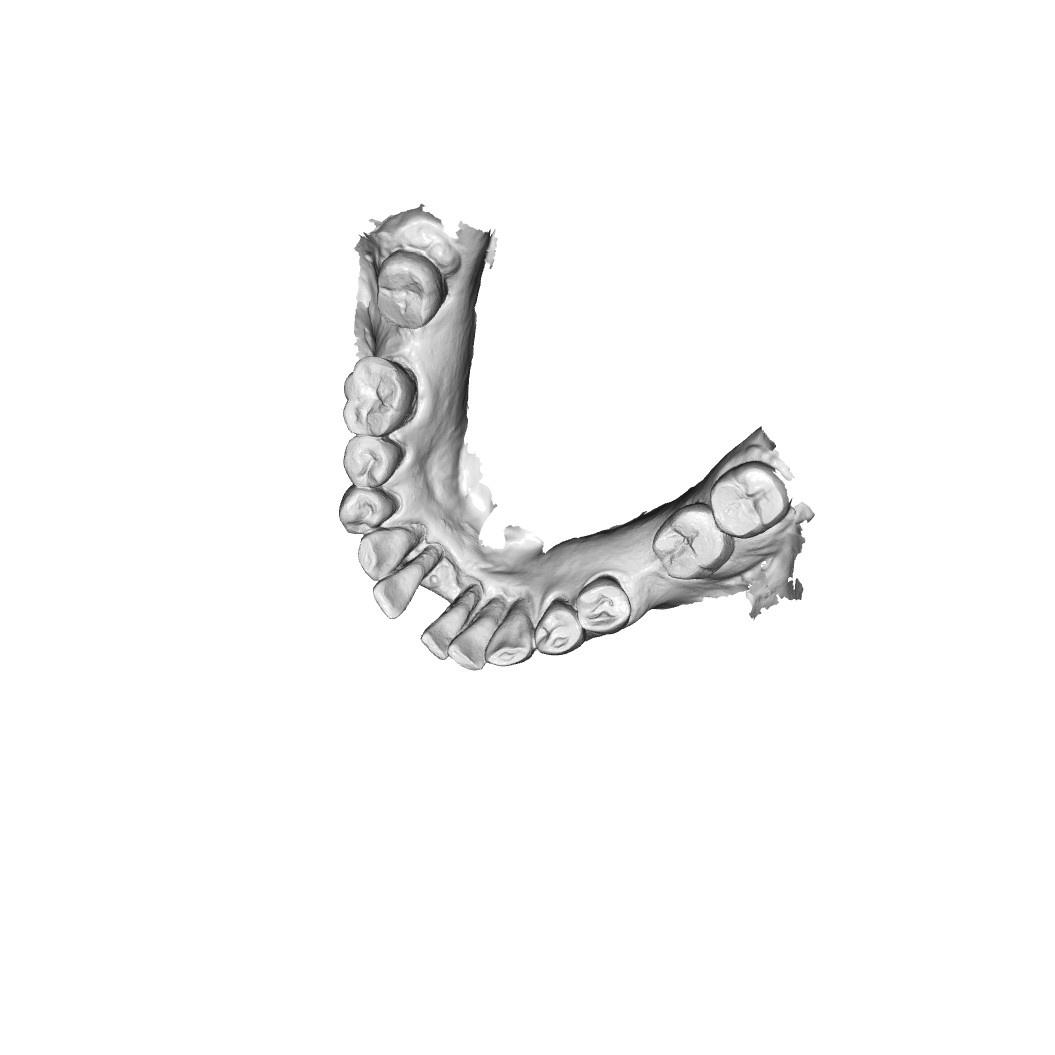canine: (489, 600, 534, 666), (356, 524, 412, 576)
incisor: (374, 560, 432, 618), (420, 602, 466, 660), (446, 618, 491, 675)
molar: (647, 500, 731, 579), (342, 356, 414, 438), (713, 462, 785, 541), (376, 251, 443, 332)
premolar: (340, 434, 401, 493), (574, 578, 629, 632), (340, 486, 397, 538), (537, 604, 585, 652)
